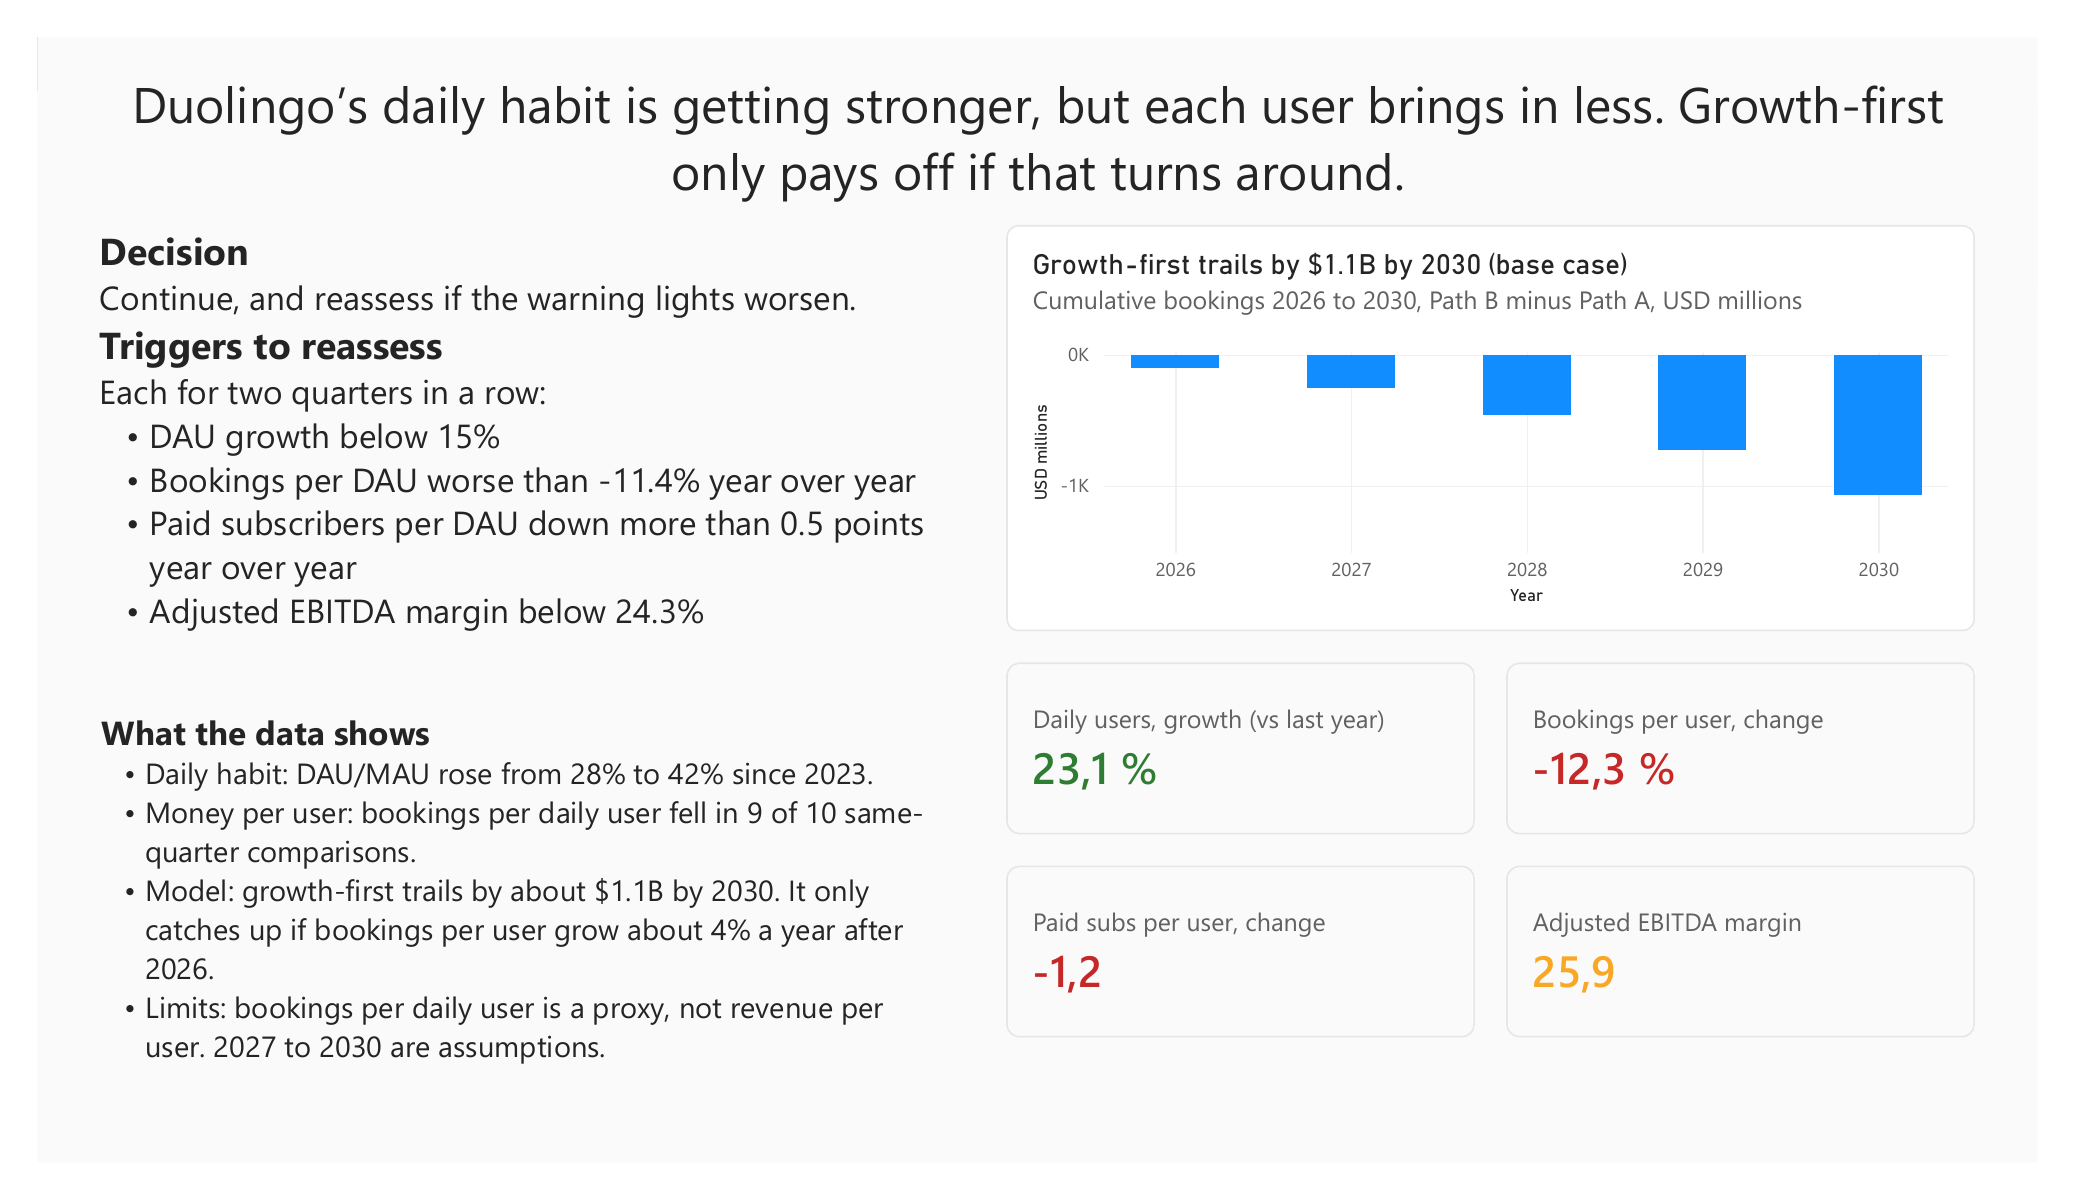

This screenshot's page, from the dashboard's own definition file:
{"tool":"powerbi","page":{"name":"Summary","canvas":[1280,720],"ordinal":0},"visuals":[{"type":"textbox","box":[40.9,20.4,1199.3,102.2],"z":0},{"type":"textbox","box":[40,120,540,540],"z":1000},{"type":"cardVisual","fields":{"Data":["duolingo_quarterly_kpis.DAU YoY %"]},"box":[620,400,300,110],"z":2000},{"type":"cardVisual","fields":{"Data":["duolingo_quarterly_kpis.Bookings per DAU YoY %"]},"box":[940,400,300,110],"z":3000},{"type":"cardVisual","fields":{"Data":["duolingo_quarterly_kpis.Paid Subs per DAU YoY pts"]},"box":[620,530,300,110],"z":4000},{"type":"cardVisual","fields":{"Data":["duolingo_quarterly_kpis.Adj EBITDA Margin pts"]},"box":[940,530,300,110],"z":5000},{"type":"clusteredColumnChart","title":"Growth-first trails by $1.1B by 2030 (base case)","fields":{"Category":["Model Years.Year"],"Y":["duolingo_quarterly_kpis.Cumulative Gap B vs A"]},"box":[620,120,620,260],"z":6000},{"type":"textbox","box":[40.9,430,540,230],"z":7000}]}

Visuals, with their boxes on the page's 1280x720 design canvas (x1, y1, x2, y2). These are canvas units, not pixel positions in the 2075x1200 screenshot, which may show the page scaled, cropped or inside an application window:
textbox: Rect(41, 20, 1240, 123)
textbox: Rect(40, 120, 580, 660)
cardVisual - duolingo_quarterly_kpis.DAU YoY %: Rect(620, 400, 920, 510)
cardVisual - duolingo_quarterly_kpis.Bookings per DAU YoY %: Rect(940, 400, 1240, 510)
cardVisual - duolingo_quarterly_kpis.Paid Subs per DAU YoY pts: Rect(620, 530, 920, 640)
cardVisual - duolingo_quarterly_kpis.Adj EBITDA Margin pts: Rect(940, 530, 1240, 640)
"Growth-first trails by $1.1B by 2030 (base case)" clusteredColumnChart: Rect(620, 120, 1240, 380)
textbox: Rect(41, 430, 581, 660)
